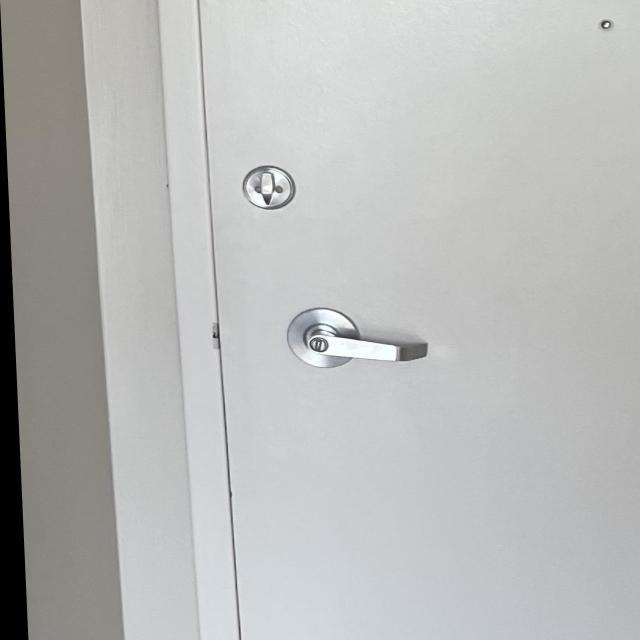door_handle: (280, 319, 444, 375)
